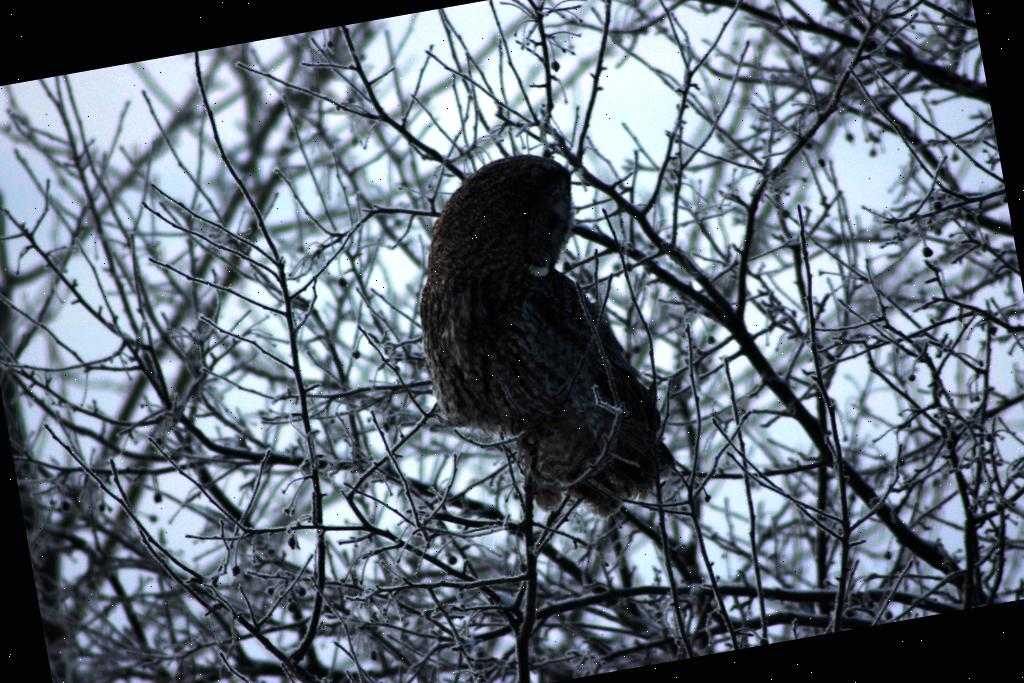Owl: (392, 133, 682, 537)
